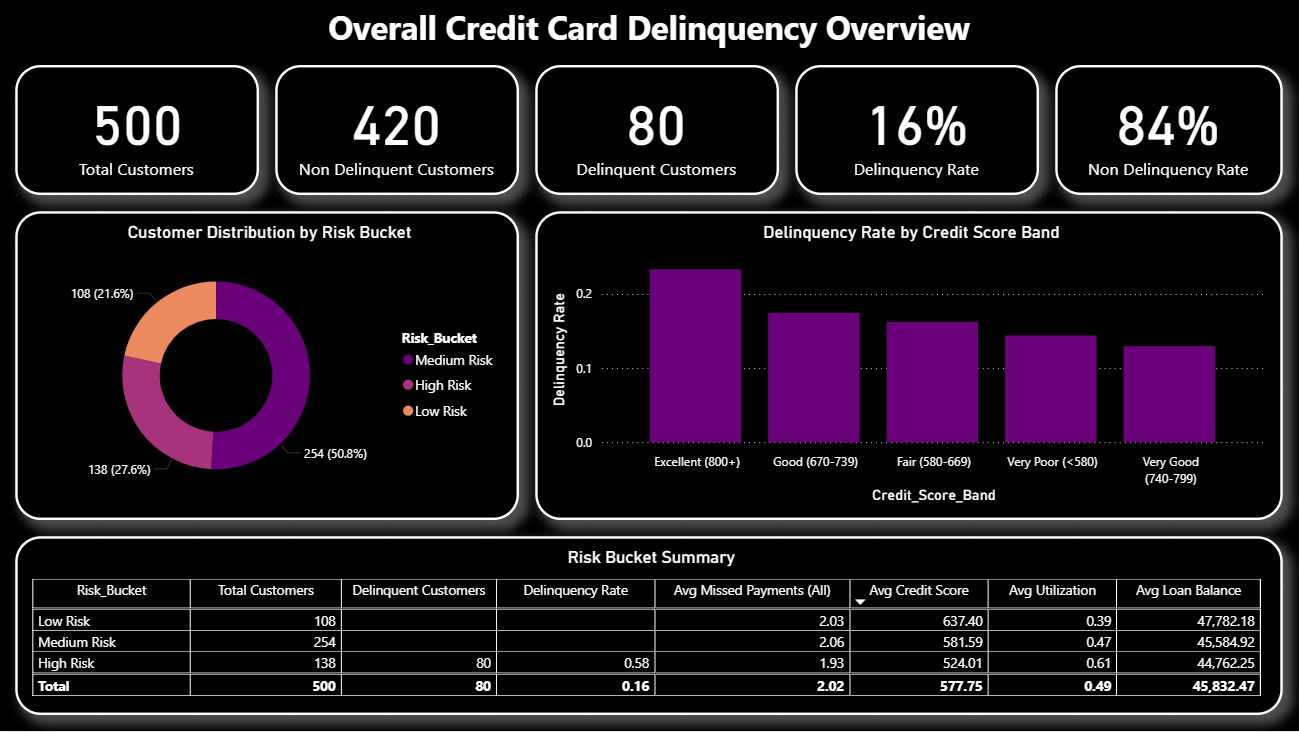

Layout of this report page (visuals, bound fields, positions):
{"tool":"powerbi","page":{"name":"Overview","canvas":[1280,720],"ordinal":0},"visuals":[{"type":"card","fields":{"Values":["Delinquency.Total Customers"]},"box":[16,64,240,128],"z":0},{"type":"card","fields":{"Values":["Delinquency.Non Delinquent Customers"]},"box":[272,64,240,128],"z":1000},{"type":"card","fields":{"Values":["Delinquency.Delinquent Customers"]},"box":[528,64,240,128],"z":2000},{"type":"card","fields":{"Values":["Delinquency.Delinquency Rate"]},"box":[784,64,240,128],"z":3000},{"type":"card","fields":{"Values":["Delinquency.Non Delinquency Rate"]},"box":[1040,64,224,128],"z":4000},{"type":"donutChart","title":"Customer Distribution by Risk Bucket","fields":{"Category":["Delinquency.Risk_Bucket"],"Y":["Delinquency.Total Customers"]},"box":[16,208,496,304],"z":5000},{"type":"clusteredColumnChart","title":"Delinquency Rate by Credit Score Band","fields":{"Category":["Delinquency.Credit_Score_Band"],"Y":["Delinquency.Delinquency Rate"]},"box":[528,208,736,304],"z":6000},{"type":"tableEx","title":"Risk Bucket Summary","fields":{"Values":["Delinquency.Risk_Bucket","Delinquency.Total Customers","Delinquency.Delinquent Customers","Delinquency.Delinquency Rate","Delinquency.Avg Missed Payments (All)","Delinquency.Avg Credit Score","Delinquency.Avg Utilization","Delinquency.Avg Loan Balance"]},"box":[16,528,1248,176],"z":7000},{"type":"textbox","box":[16,0,1248,64],"z":7001}]}

Visuals, with their boxes in screenshot pixels (x1, y1, x2, y2), scaled from the page's 1280x720 canvas onto the 1299x732 screenshot:
card - Delinquency.Total Customers: 16:65:260:195
card - Delinquency.Non Delinquent Customers: 276:65:520:195
card - Delinquency.Delinquent Customers: 536:65:779:195
card - Delinquency.Delinquency Rate: 796:65:1039:195
card - Delinquency.Non Delinquency Rate: 1055:65:1283:195
"Customer Distribution by Risk Bucket" donutChart: 16:211:520:521
"Delinquency Rate by Credit Score Band" clusteredColumnChart: 536:211:1283:521
"Risk Bucket Summary" tableEx: 16:537:1283:716
textbox: 16:0:1283:65
